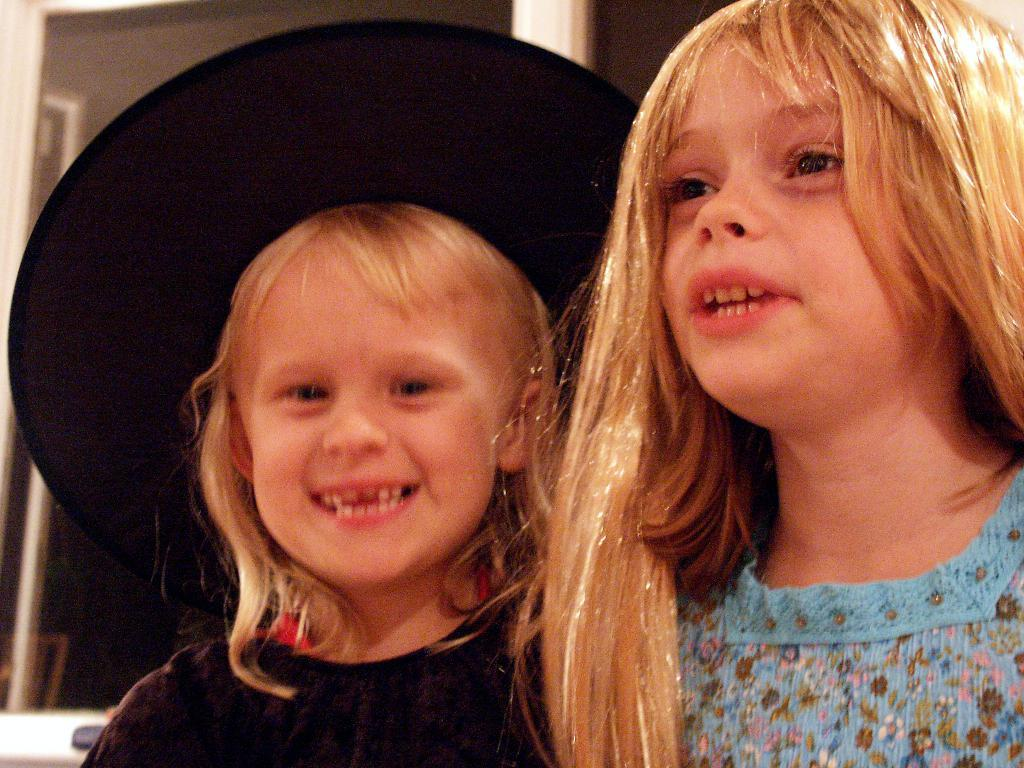Hat: (2, 17, 654, 636)
